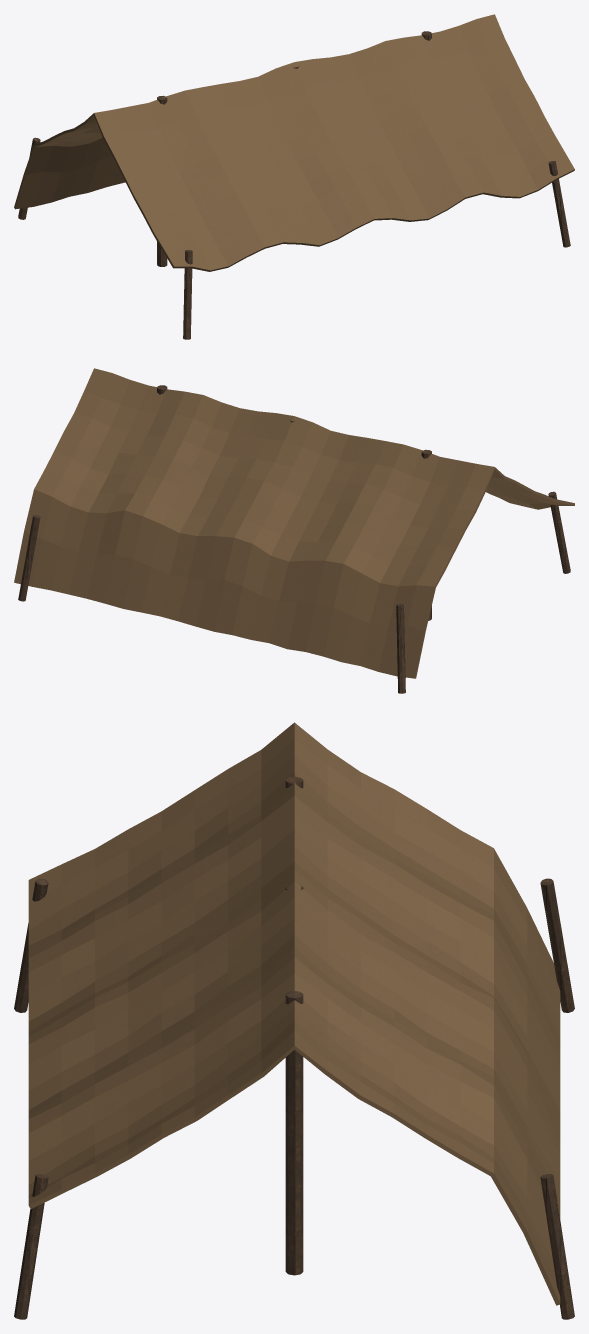
File: tent_long.glb
3 renders of one model, top to bottom at view 1: azimuth 30°, elevation 25°; view 2: azimuth 150°, elevation 25°; view 3: azimuth 270°, elevation 25°, orthographic. The views are drawn at different scales.
Parts seen in each view (by area): view 1: tent_long; view 2: tent_long; view 3: tent_long.
Part boxes in pixels (bbox=[...]): tent_long: bbox=[14, 14, 574, 339]; tent_long: bbox=[14, 368, 574, 693]; tent_long: bbox=[14, 722, 574, 1319].
Bounding box in the file's own units: 5.21 × 2.11 × 3.8.
2 materials, 2 textured.
